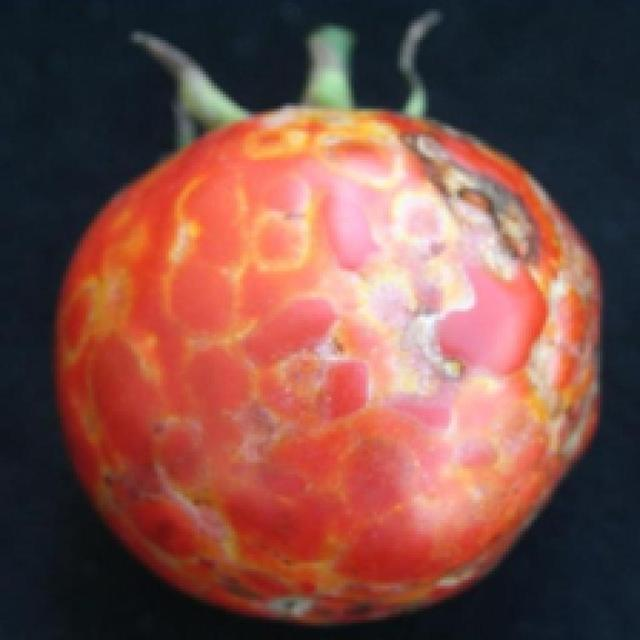Spotted wilt Virus Fruit: (38, 68, 400, 417)
